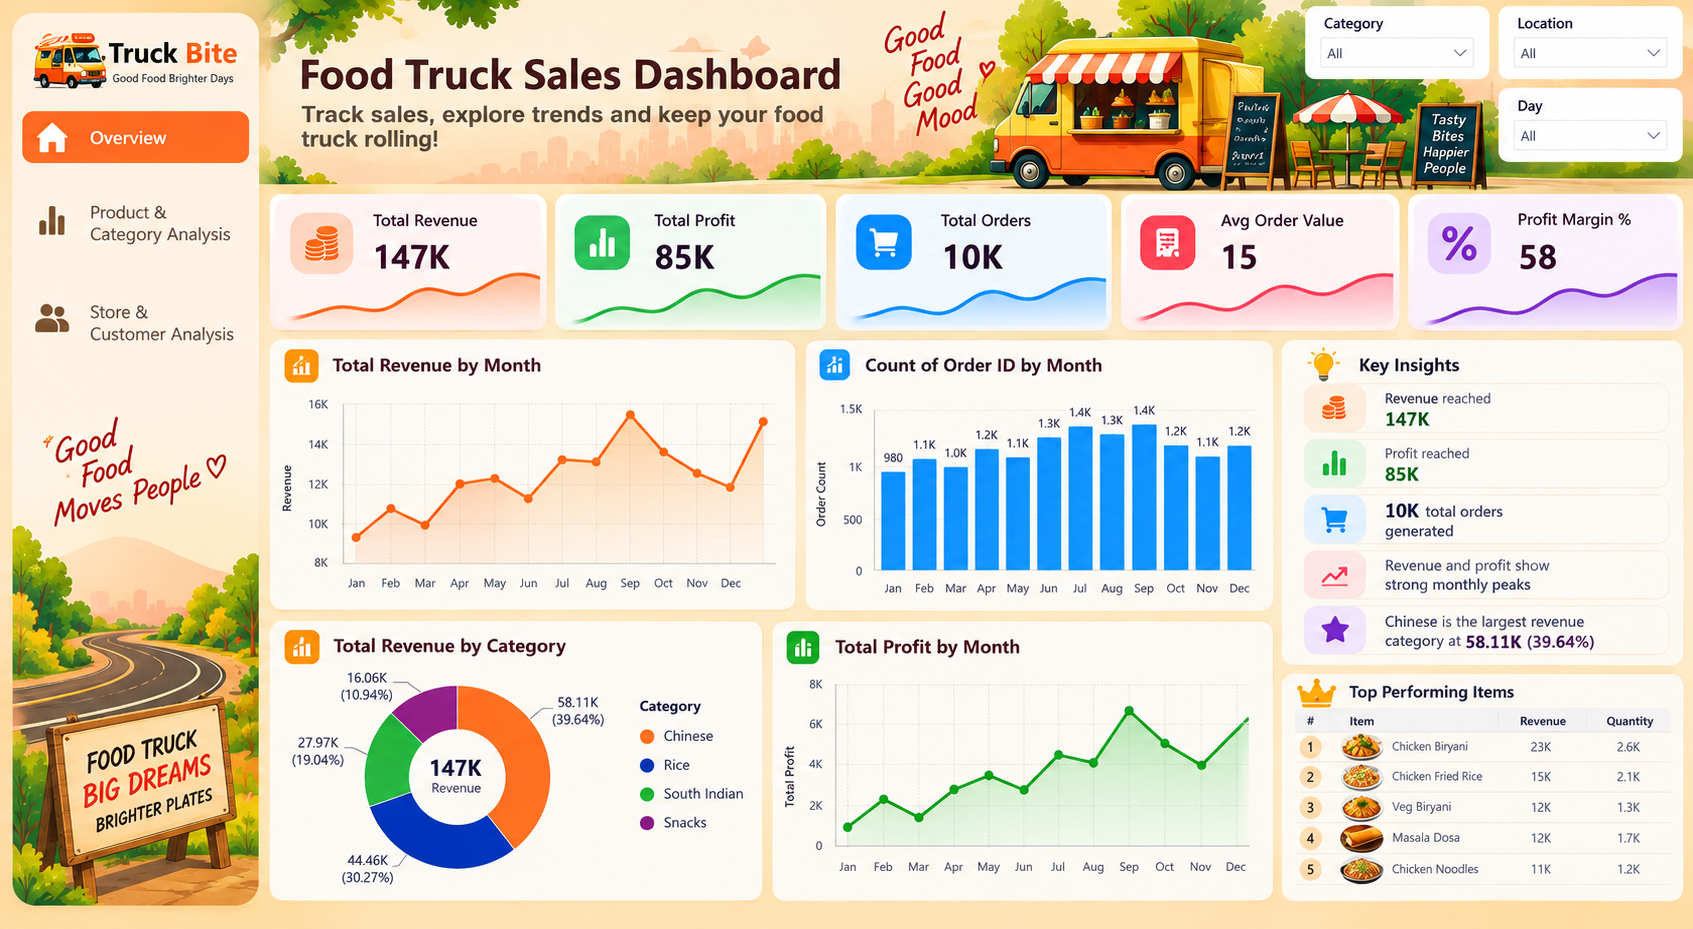

What the dashboard file says about the page in this screenshot:
{"tool":"powerbi","page":{"name":"Page 1","canvas":[1750,988],"ordinal":0},"visuals":[{"type":"advanceCardE03760C5AB684758B56AA29F9E6C257B","fields":{"mainMeasure":["NYC_Street_Bites_Synthetic_Dataset_1.Total Revenue"]},"box":[312.9,232.9,165.7,101.4],"z":0},{"type":"advanceCardE03760C5AB684758B56AA29F9E6C257B","fields":{"mainMeasure":["Sales.Total Profit"]},"box":[552.9,232.9,279.9,101.5],"z":1000},{"type":"advanceCardE03760C5AB684758B56AA29F9E6C257B","fields":{"mainMeasure":["DateTable.Total Orders"]},"box":[862.9,232.9,279.9,101.5],"z":2000},{"type":"advanceCardE03760C5AB684758B56AA29F9E6C257B","fields":{"mainMeasure":["Avg(Sales.Average Order value)"]},"box":[1152.9,232.9,279.9,101.5],"z":3000},{"type":"advanceCardE03760C5AB684758B56AA29F9E6C257B","fields":{"mainMeasure":["Sales.Profit Mergin %"]},"box":[1458.6,221.4,273.9,123.8],"z":4000},{"type":"lineChart","fields":{"Category":["DateTable.Date.Variation.Date Hierarchy.Month"],"Y":["Sales.Total Revenue"]},"box":[268.6,402.9,550,247.1],"z":5000},{"type":"lineChart","fields":{"Category":["DateTable.Date.Variation.Date Hierarchy.Month"],"Y":["Sales.Total Profit"]},"box":[832.9,708.6,531.4,251.4],"z":6000},{"type":"columnChart","fields":{"Category":["DateTable.Date.Variation.Date Hierarchy.Month"],"Y":["CountNonNull(Sales.Order ID)"]},"box":[832.9,402.9,517.1,247.1],"z":7000},{"type":"donutChart","fields":{"Category":["Sales.Category"],"Y":["Sales.Total Revenue"]},"box":[268.6,695.7,550,274.3],"z":8000},{"type":"slicer","fields":{"Values":["DateTable.Date.Variation.Date Hierarchy.Day"]},"box":[1069.4,108.8,171.5,81],"z":9000},{"type":"slicer","fields":{"Values":["Sales.Location"]},"box":[1497.1,15,170.7,93.8],"z":10000},{"type":"slicer","fields":{"Values":["Sales.Category"]},"box":[1234.5,33.8,232.9,67.1],"z":11000}]}

Visuals, with their boxes in screenshot pixels (x1, y1, x2, y2), scaled from the page's 1750x988 canvas onto the 1693x929 screenshot:
advanceCardE03760C5AB684758B56AA29F9E6C257B - NYC_Street_Bites_Synthetic_Dataset_1.Total Revenue: 303/219/463/314
advanceCardE03760C5AB684758B56AA29F9E6C257B - Sales.Total Profit: 535/219/806/314
advanceCardE03760C5AB684758B56AA29F9E6C257B - DateTable.Total Orders: 835/219/1106/314
advanceCardE03760C5AB684758B56AA29F9E6C257B - Avg(Sales.Average Order value): 1115/219/1386/314
advanceCardE03760C5AB684758B56AA29F9E6C257B - Sales.Profit Mergin %: 1411/208/1676/325
lineChart - DateTable.Date.Variation.Date Hierarchy.Month x Sales.Total Revenue: 260/379/792/611
lineChart - DateTable.Date.Variation.Date Hierarchy.Month x Sales.Total Profit: 806/666/1320/903
columnChart - DateTable.Date.Variation.Date Hierarchy.Month x CountNonNull(Sales.Order ID): 806/379/1306/611
donutChart - Sales.Category x Sales.Total Revenue: 260/654/792/912
slicer - DateTable.Date.Variation.Date Hierarchy.Day: 1035/102/1200/178
slicer - Sales.Location: 1448/14/1613/102
slicer - Sales.Category: 1194/32/1420/95
